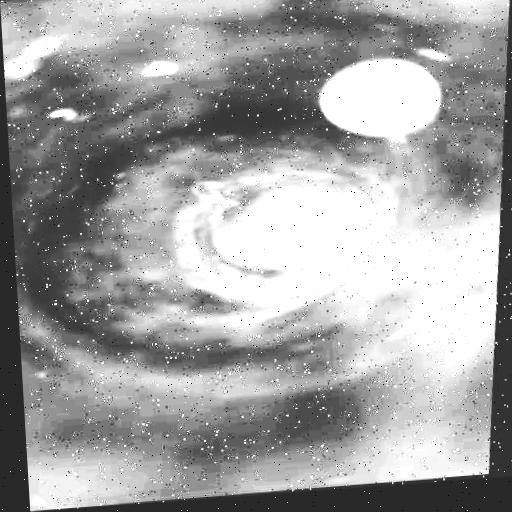balloon: (318, 54, 445, 139)
